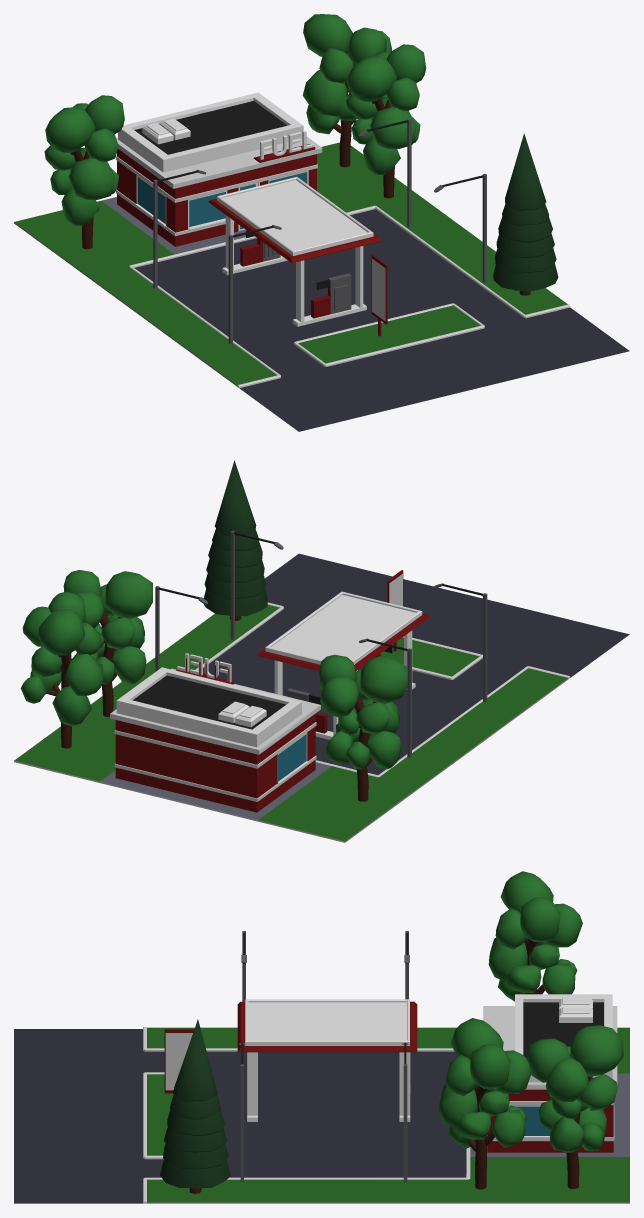
The model's file is zapravka.FBX.
3 views of the same model, one above another, from view 1: azimuth 30°, elevation 25°; view 2: azimuth 150°, elevation 25°; view 3: azimuth 270°, elevation 25° (orthographic). The views are drawn at different scales.
Visible parts, largest first — view 1: Plane001; view 2: Plane001; view 3: Plane001.
Boxes of the visible parts, x1,y1,x2,y2 form: Plane001: (14,14,629,431); Plane001: (14,460,629,842); Plane001: (14,871,629,1203).
Bounding box in the file's own units: 611 × 838 × 266.
